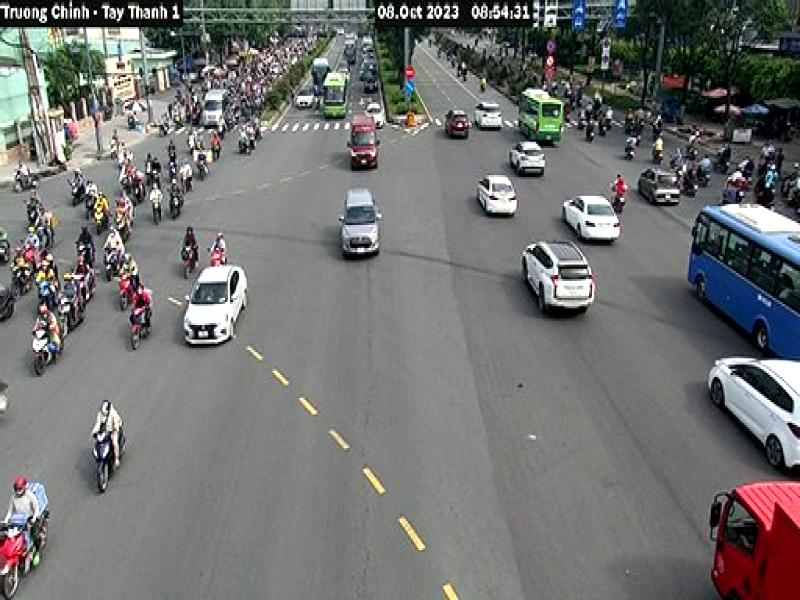bus: (684, 191, 800, 369), (515, 86, 562, 148), (322, 69, 349, 120)
car: (707, 344, 800, 481), (518, 236, 598, 320), (181, 262, 254, 346), (559, 192, 623, 249), (337, 185, 384, 260), (471, 172, 523, 219), (635, 162, 681, 208), (346, 116, 381, 174), (509, 142, 552, 180), (473, 98, 510, 133), (198, 87, 226, 126), (441, 109, 471, 138), (296, 87, 315, 109)
motorcycle: (0, 505, 51, 599), (80, 435, 126, 501), (28, 324, 62, 380), (59, 288, 86, 340), (131, 301, 157, 349), (116, 271, 144, 311), (103, 244, 125, 281), (114, 208, 135, 246), (11, 266, 32, 303), (178, 243, 200, 275), (609, 188, 630, 219), (166, 189, 186, 218), (24, 243, 43, 272), (93, 205, 108, 233), (209, 246, 225, 268), (152, 199, 162, 226)
